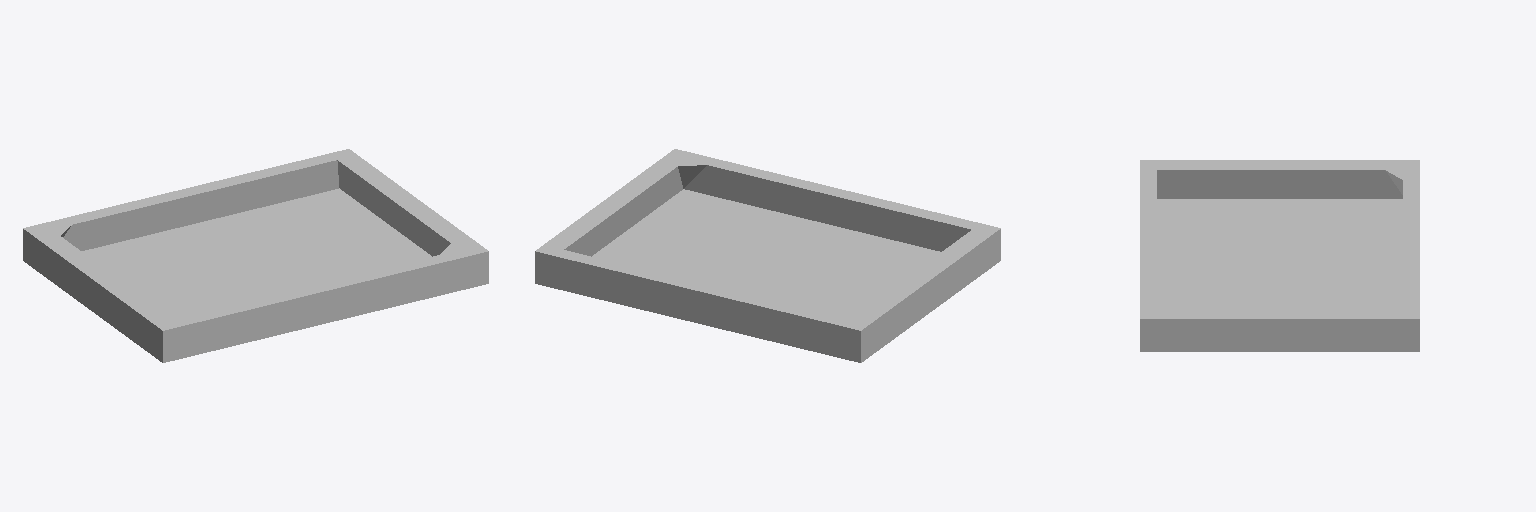
The model's file is range.obj.
3 renders of one model, left to right at view 1: azimuth 30°, elevation 25°; view 2: azimuth 150°, elevation 25°; view 3: azimuth 270°, elevation 25°, orthographic.
Parts seen in each view (by area): view 1: Cube_range; view 2: Cube_range; view 3: Cube_range.
Part boxes in pixels (x1,y1,x2,y2): Cube_range: (23, 149, 488, 362); Cube_range: (535, 149, 1000, 362); Cube_range: (1140, 160, 1419, 351).
Bounding box in the file's own units: 8.04 × 0.7637 × 5.99.